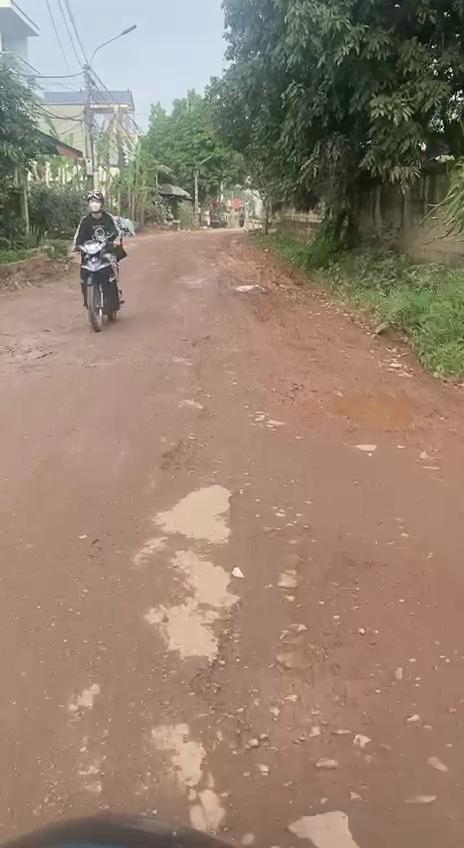pothole: (192, 596, 320, 754), (309, 381, 428, 437), (0, 338, 62, 371)
